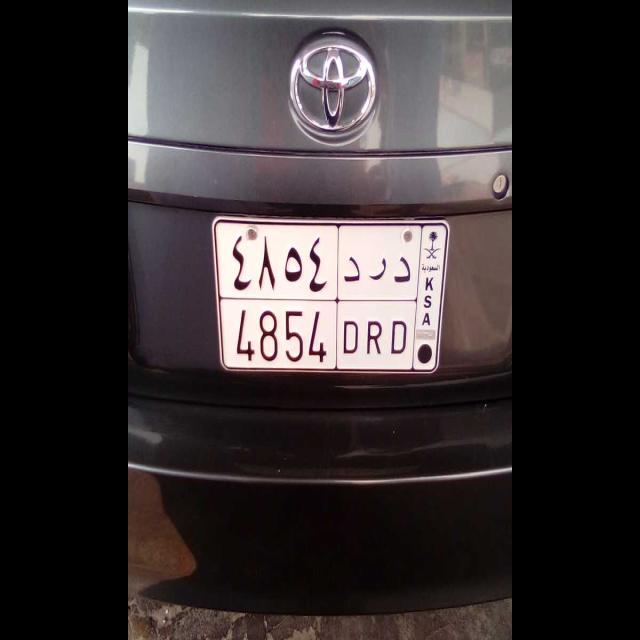license_plate: (221, 296, 414, 371)
